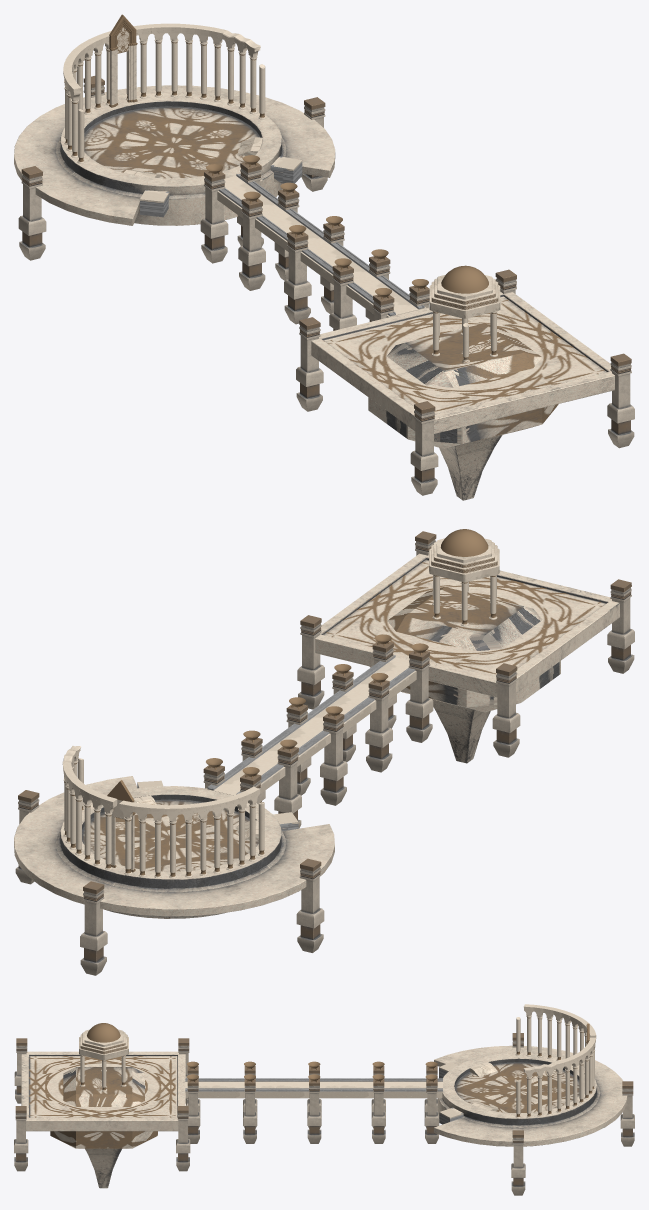
File: default_arena.fbx
3 views of the same model, one above another, from view 1: azimuth 30°, elevation 25°; view 2: azimuth 150°, elevation 25°; view 3: azimuth 270°, elevation 25° (orthographic). The views are drawn at different scales.
Parts seen in each view (by area): view 1: pCylinder5, pCube47, pCube68, 立方体, polySurface45, polySurface39, polySurface29, pCylinder37, pCylinder71, pSphere1, polySurface37, pCylinder70 (+3 smaller); view 2: pCylinder5, pCube68, pCube47, 立方体, polySurface39, polySurface45, polySurface29, pCylinder37, pCylinder71, pSphere1, polySurface41; view 3: pCylinder5, pCube47, pCube68, 立方体, polySurface45, polySurface39, polySurface29, pCylinder37, pCylinder71, pSphere1, polySurface41, pCylinder70 (+1 smaller).
Part boxes in pixels (x1=…): pCylinder5: x1=14, y1=85, x2=335, y2=225; pCube47: x1=311, y1=292, x2=614, y2=500; pCube68: x1=18, y1=76, x2=634, y2=495; 立方体: x1=368, y1=323, x2=558, y2=448; polySurface45: x1=217, y1=173, x2=425, y2=317; polySurface39: x1=64, y1=38, x2=257, y2=157; polySurface29: x1=63, y1=23, x2=226, y2=93; pCylinder37: x1=429, y1=274, x2=500, y2=318; pCylinder71: x1=206, y1=155, x2=428, y2=299; pSphere1: x1=441, y1=265, x2=488, y2=293; polySurface37: x1=109, y1=42, x2=137, y2=107; pCylinder70: x1=77, y1=64, x2=266, y2=163; pCylinder5: x1=14, y1=776, x2=334, y2=918; pCube68: x1=15, y1=531, x2=634, y2=975; pCube47: x1=315, y1=553, x2=619, y2=763; 立方体: x1=369, y1=587, x2=560, y2=712; polySurface39: x1=63, y1=760, x2=256, y2=878; polySurface45: x1=206, y1=655, x2=416, y2=795; polySurface29: x1=62, y1=762, x2=250, y2=820; pCylinder37: x1=429, y1=538, x2=499, y2=582; pCylinder71: x1=206, y1=634, x2=428, y2=778; pSphere1: x1=440, y1=529, x2=488, y2=556; polySurface41: x1=432, y1=575, x2=469, y2=626; pCylinder5: x1=434, y1=1045, x2=627, y2=1146; pCube47: x1=21, y1=1051, x2=185, y2=1188; pCube68: x1=14, y1=1033, x2=634, y2=1195; 立方体: x1=50, y1=1067, x2=157, y2=1148; polySurface45: x1=185, y1=1078, x2=442, y2=1098; polySurface39: x1=526, y1=1015, x2=595, y2=1117; polySurface29: x1=534, y1=1005, x2=596, y2=1072; pCylinder37: x1=79, y1=1029, x2=128, y2=1060; pCylinder71: x1=187, y1=1061, x2=437, y2=1082; pSphere1: x1=87, y1=1023, x2=120, y2=1042; polySurface41: x1=79, y1=1055, x2=126, y2=1091; pCylinder70: x1=515, y1=1017, x2=521, y2=1118.
Bounding box in the file's own units: 567 × 417 × 1440.
22 materials, 22 textured.
